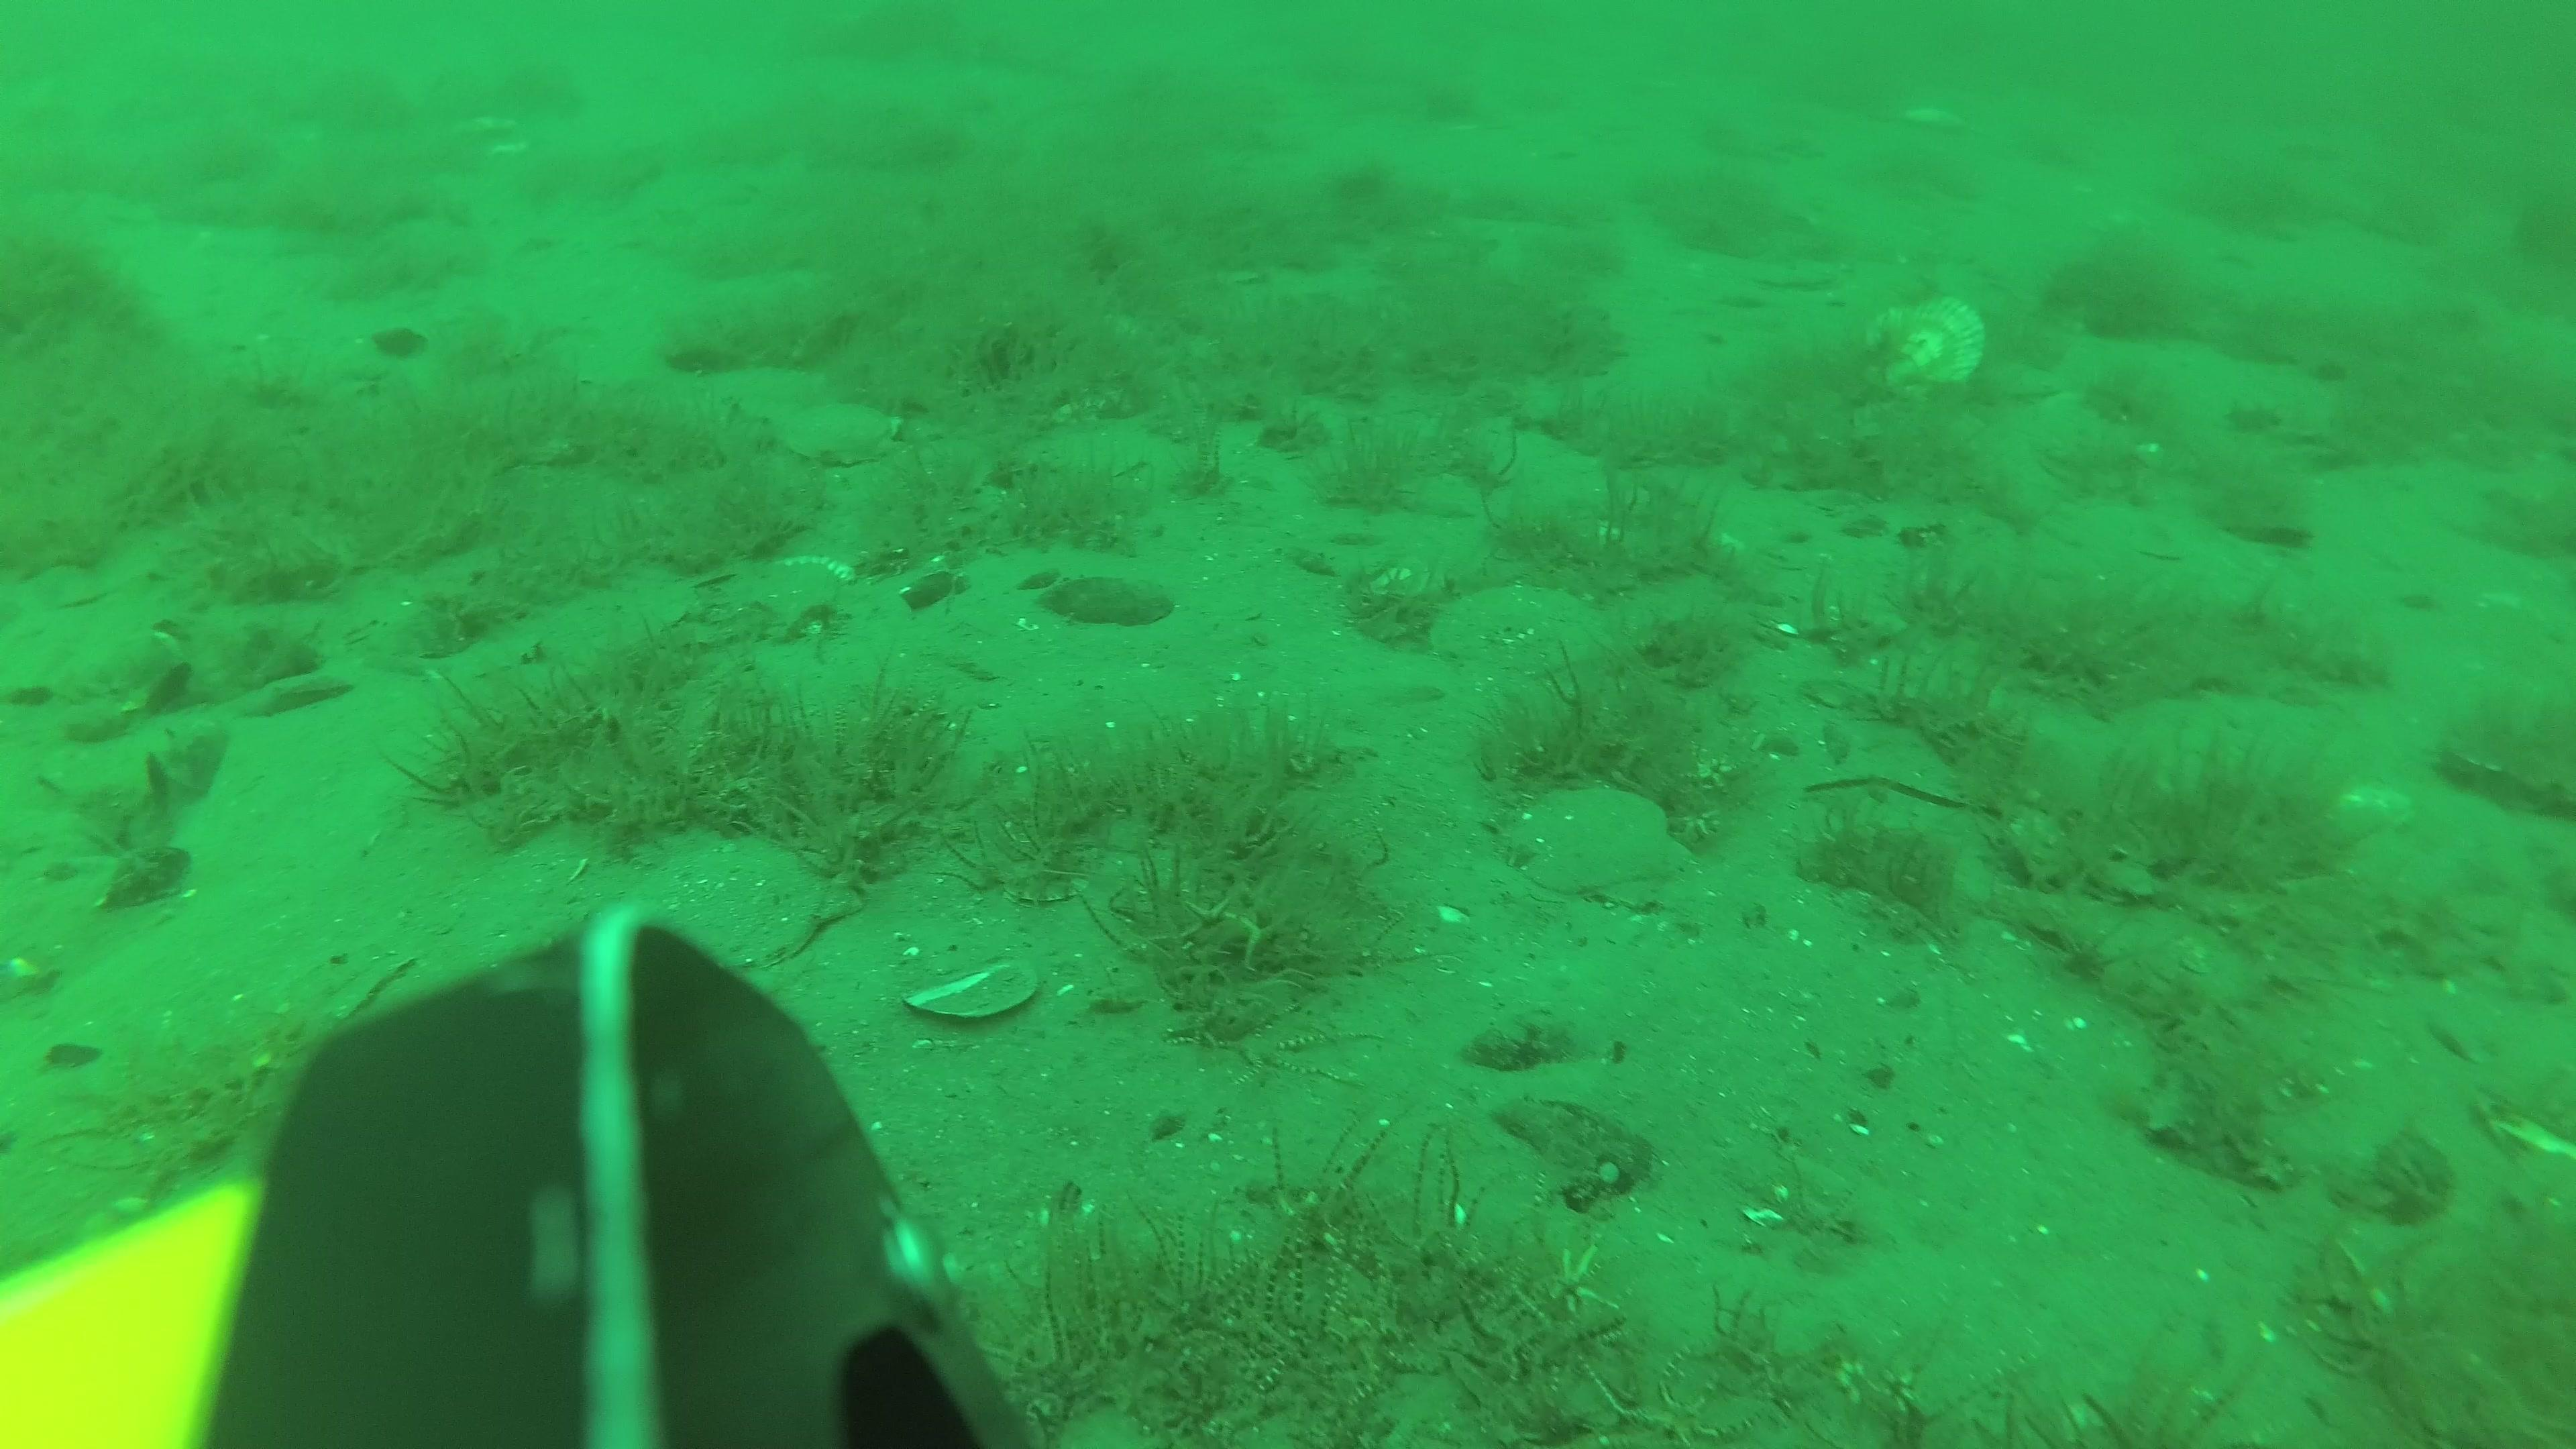scallop: (626, 842, 862, 966), (1502, 786, 1691, 895), (1863, 303, 1983, 393), (782, 396, 906, 465), (1911, 103, 1959, 126)
